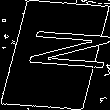N_E: (2, 32, 108, 78)
